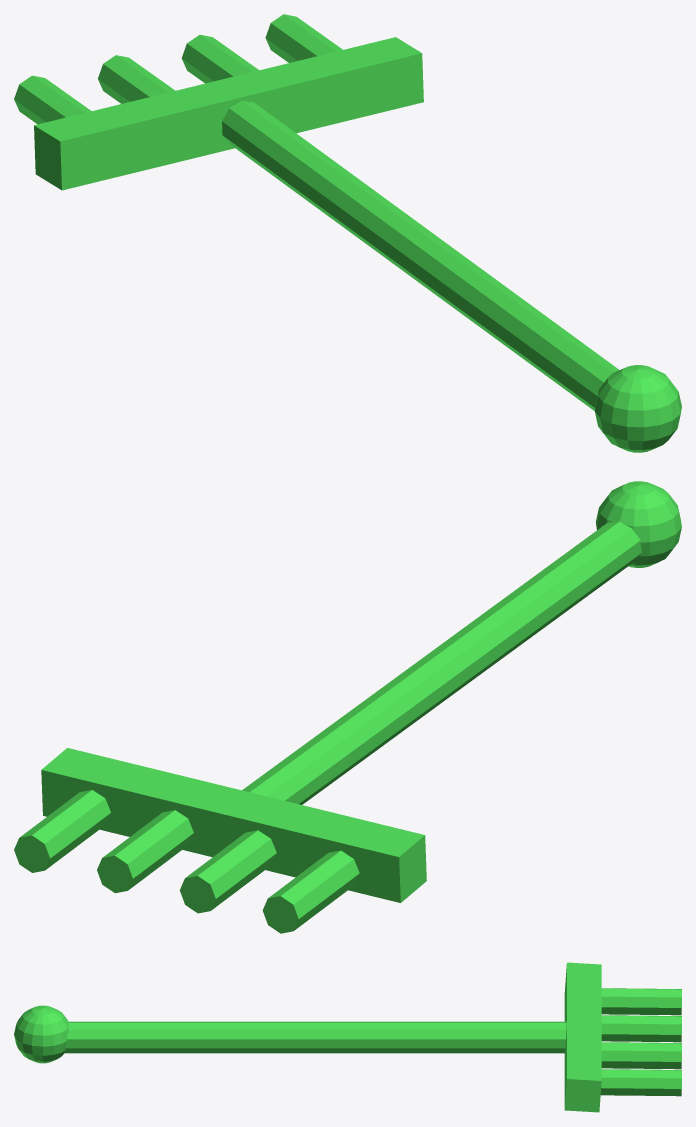
File: PalaPLaya.glb
3 views of the same model, one above another, from view 1: azimuth 30°, elevation 25°; view 2: azimuth 150°, elevation 25°; view 3: azimuth 270°, elevation 25° (orthographic). The views are drawn at different scales.
Visible parts, largest first — view 1: Rast_Barra, Rast_Mango, Rast_Union.001, Rast_D0, Rast_D1, Rast_D3, Rast_D2; view 2: Rast_Barra, Rast_Mango, Rast_Union.001, Rast_D0, Rast_D1, Rast_D3, Rast_D2; view 3: Rast_Mango, Rast_Barra, Rast_Union.001, Rast_D3, Rast_D0, Rast_D1, Rast_D2.
Boxes of the visible parts, x1=… form: Rast_Barra: x1=34, y1=37, x2=423, y2=190; Rast_Mango: x1=222, y1=101, x2=619, y2=410; Rast_Union.001: x1=594, y1=365, x2=681, y2=452; Rast_D0: x1=14, y1=75, x2=91, y2=124; Rast_D1: x1=98, y1=55, x2=175, y2=103; Rast_D3: x1=265, y1=14, x2=342, y2=62; Rast_D2: x1=181, y1=34, x2=258, y2=83; Rast_Barra: x1=41, y1=748, x2=426, y2=902; Rast_Mango: x1=242, y1=521, x2=641, y2=804; Rast_Union.001: x1=595, y1=481, x2=681, y2=567; Rast_D0: x1=262, y1=850, x2=359, y2=933; Rast_D1: x1=179, y1=830, x2=276, y2=913; Rast_D3: x1=14, y1=790, x2=110, y2=872; Rast_D2: x1=97, y1=810, x2=193, y2=893; Rast_Mango: x1=64, y1=1021, x2=566, y2=1053; Rast_Barra: x1=564, y1=962, x2=601, y2=1112; Rast_Union.001: x1=14, y1=1005, x2=68, y2=1063; Rast_D3: x1=600, y1=1069, x2=681, y2=1096; Rast_D0: x1=601, y1=988, x2=681, y2=1015; Rast_D1: x1=601, y1=1015, x2=681, y2=1042; Rast_D2: x1=601, y1=1042, x2=681, y2=1069.
Bounding box in the file's own units: 0.95 × 0.2 × 2.3.
